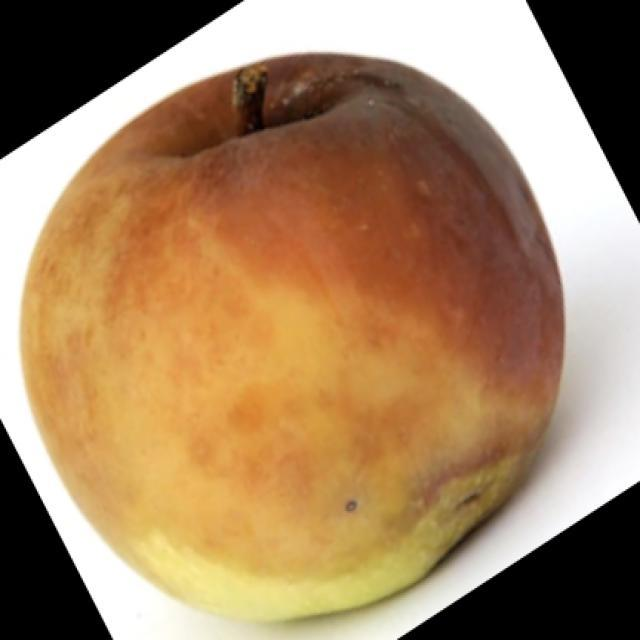Rotten: (22, 50, 563, 622)
